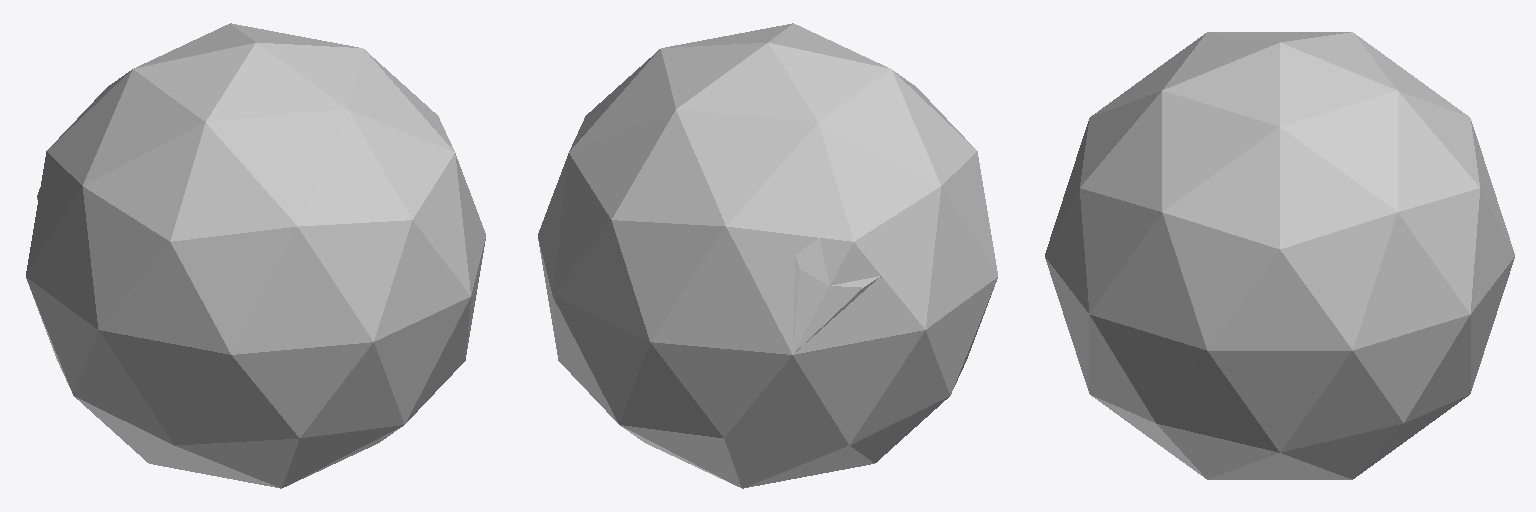
The model's file is NeptunModel.obj.
3 renders of one model, left to right at view 1: azimuth 30°, elevation 25°; view 2: azimuth 150°, elevation 25°; view 3: azimuth 270°, elevation 25°, orthographic.
Bounding box in the file's own units: 14.78 × 15.54 × 15.54.